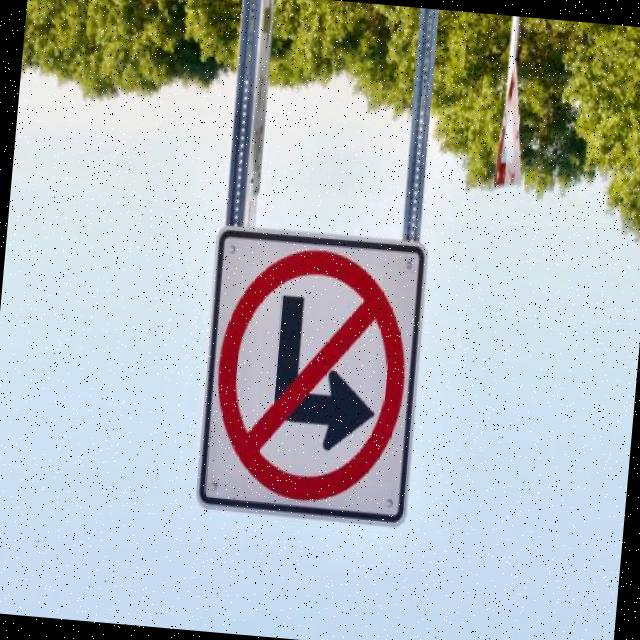do_not_turn_right: (208, 237, 416, 506)
